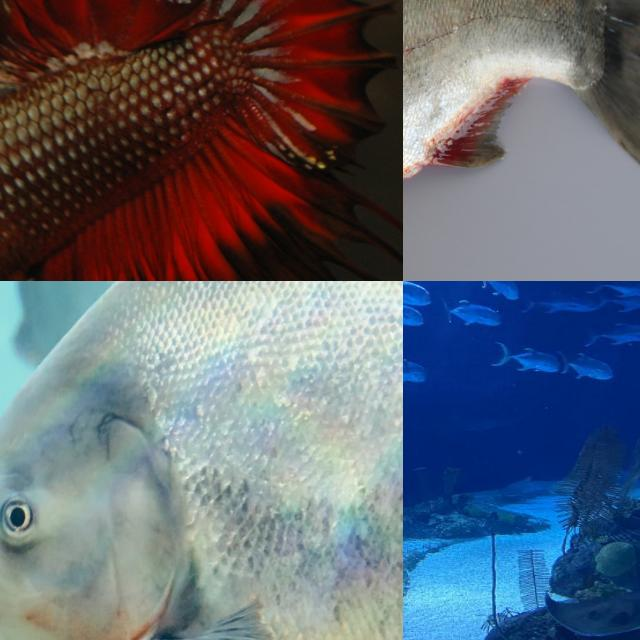fish: (0, 0, 403, 281), (0, 282, 384, 565), (403, 0, 640, 238)
